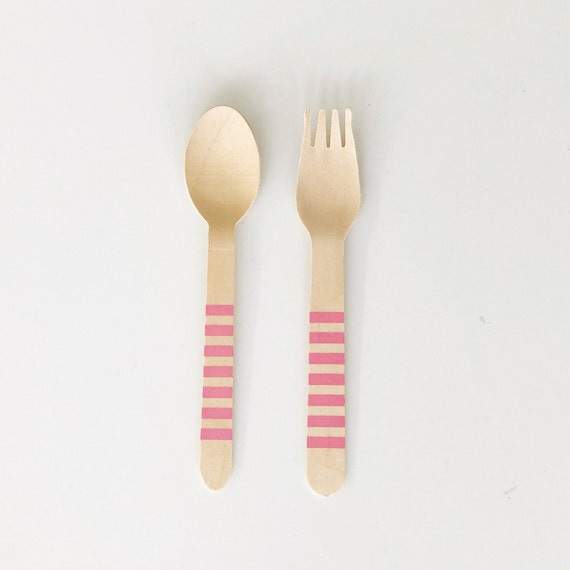Wooden Utensils: (284, 89, 378, 513), (183, 91, 276, 513)
